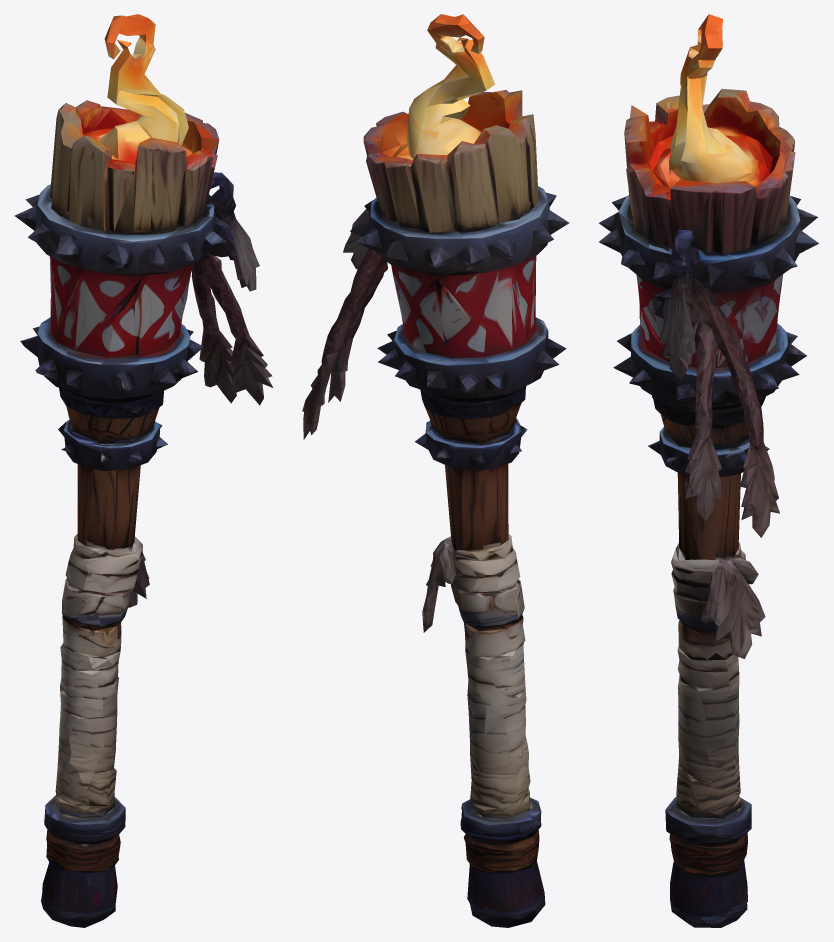
Rendered from torch_1.glb.
The picture shows the model from 3 angles, left to right: view 1: azimuth 30°, elevation 25°; view 2: azimuth 150°, elevation 25°; view 3: azimuth 270°, elevation 25°; orthographic projection. The views are drawn at different scales.
Visible parts, largest first — view 1: mesh.001; view 2: mesh.001; view 3: mesh.001.
Boxes of the visible parts, x1,y1,x2,y2 form: mesh.001: (14, 14, 273, 927); mesh.001: (302, 14, 569, 927); mesh.001: (599, 14, 818, 927).
Bounding box in the file's own units: 0.328 × 1.2 × 0.2593.
Materials: 1 (1 with a texture image).
